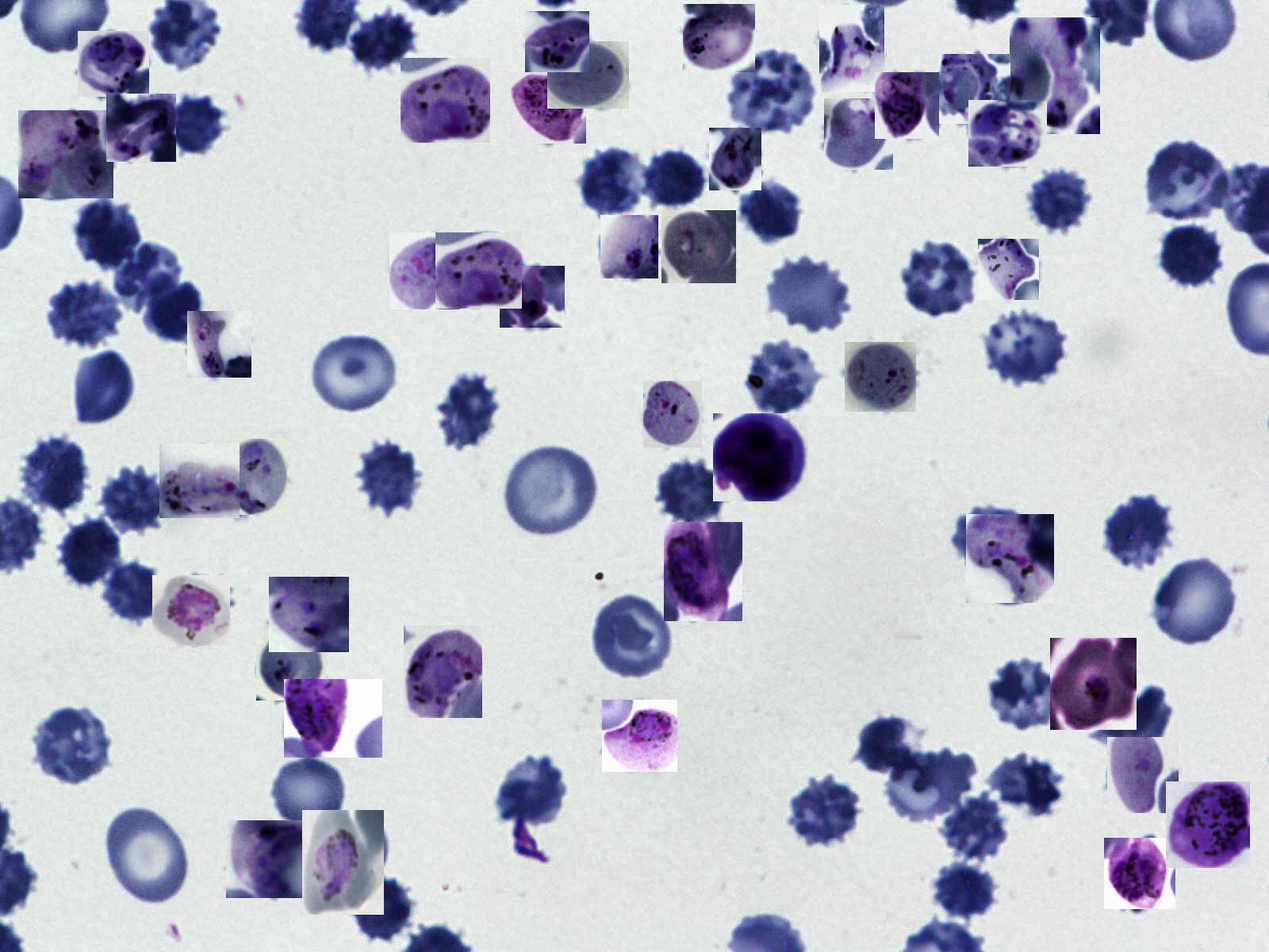Infected: (1010, 17, 1100, 134), (302, 810, 384, 915), (713, 413, 808, 501), (18, 111, 113, 199), (1050, 638, 1137, 730), (966, 514, 1054, 603), (284, 679, 382, 758), (664, 522, 742, 621), (401, 58, 490, 143), (1166, 781, 1250, 868), (404, 625, 482, 718), (226, 820, 317, 898), (435, 233, 522, 309), (159, 443, 240, 518), (269, 577, 349, 652), (819, 6, 884, 92), (152, 575, 230, 646), (547, 42, 629, 109), (661, 210, 736, 283), (1107, 737, 1179, 813), (389, 232, 460, 309), (602, 700, 677, 772), (511, 72, 586, 144), (217, 439, 287, 515), (968, 100, 1047, 167), (1104, 838, 1175, 909), (938, 54, 1010, 124), (845, 342, 916, 412), (824, 98, 893, 170), (683, 4, 755, 72), (256, 633, 327, 701), (106, 94, 176, 162), (78, 31, 149, 97), (875, 72, 939, 139), (187, 311, 251, 378), (500, 266, 565, 328), (525, 11, 589, 72), (643, 381, 702, 447), (978, 239, 1039, 300), (600, 215, 658, 278), (710, 128, 762, 190)
Uninfected: (502, 443, 601, 539), (102, 805, 192, 908), (306, 327, 401, 416), (1152, 555, 1240, 647), (724, 52, 819, 135), (1144, 136, 1230, 223), (766, 249, 851, 334), (589, 595, 673, 681), (884, 743, 972, 823), (983, 304, 1072, 383), (1101, 491, 1180, 573), (32, 705, 112, 784), (987, 655, 1072, 729), (744, 336, 822, 416), (273, 749, 352, 827), (17, 435, 93, 514), (494, 750, 570, 829), (901, 240, 977, 318), (433, 370, 505, 452), (579, 147, 656, 222), (788, 774, 868, 846), (1159, 218, 1233, 291), (48, 282, 132, 344), (68, 350, 135, 427), (345, 7, 420, 74), (113, 243, 182, 313), (988, 754, 1064, 817), (74, 205, 140, 274), (355, 440, 419, 510), (643, 144, 709, 211), (937, 797, 1006, 861), (660, 455, 724, 523), (63, 517, 123, 589), (348, 879, 416, 942), (102, 560, 168, 624), (931, 862, 998, 923), (140, 282, 205, 344), (1030, 164, 1092, 228), (102, 467, 163, 532), (738, 177, 799, 240), (167, 94, 228, 153)
